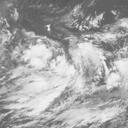cyclone: (23, 39, 101, 117)
